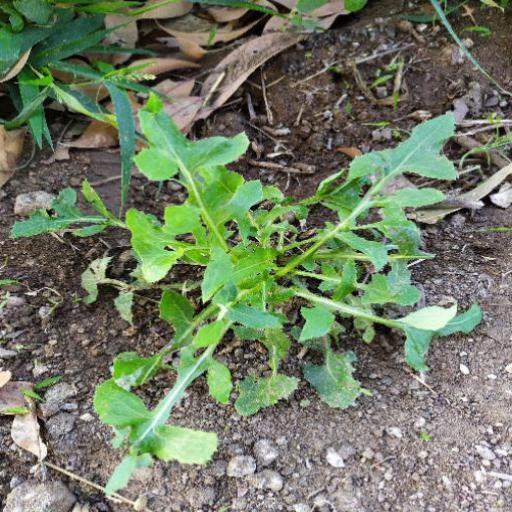weed: (17, 99, 478, 487)
